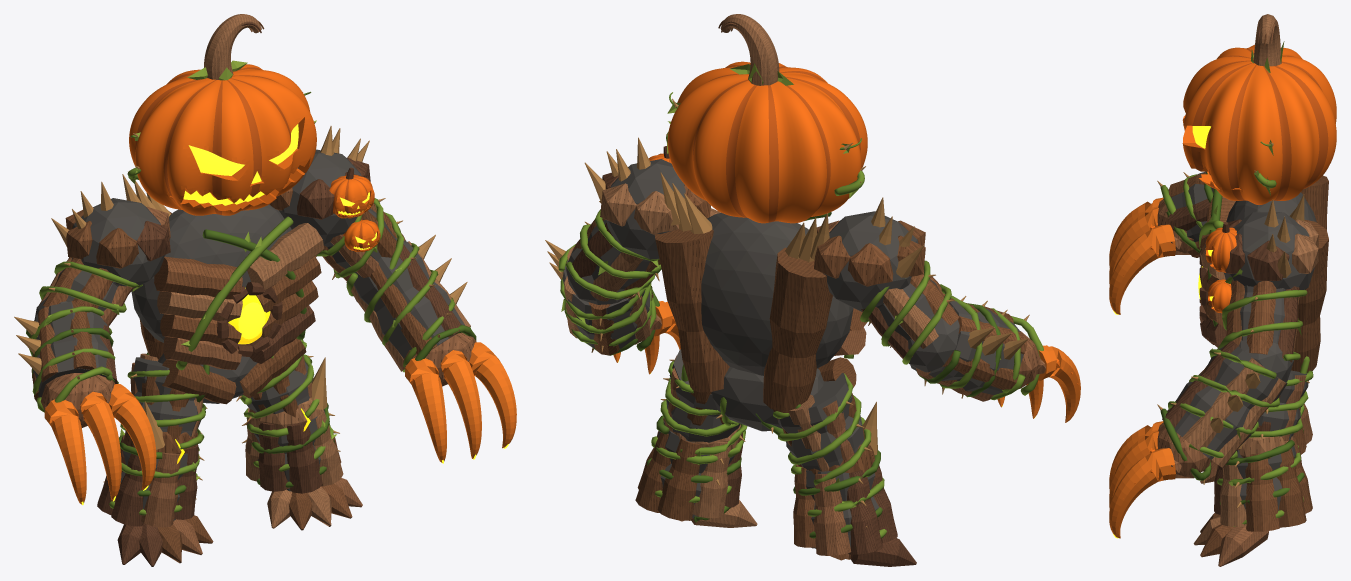
Rendered from PumpkinTitan.fbx.
3 renders of one model, left to right at view 1: azimuth 30°, elevation 25°; view 2: azimuth 150°, elevation 25°; view 3: azimuth 270°, elevation 25°, orthographic. The views are drawn at different scales.
Visible parts, largest first — view 1: Pumpkin_Head, Torso_Stone, Shoulder_Stone_-1, Forearm_Core_1, Rib_Bark_-1_3, Shoulder_Stone_1, Rib_Bark_1_3, Orange_Claw_-1_0, Orange_Claw_1_0, Orange_Claw_-1_1, Orange_Claw_-1_2, Orange_Claw_1_2 (+57 smaller); view 2: Pumpkin_Head, Torso_Stone, Back_Trunk_-1, Back_Trunk_1, Shoulder_Stone_-1, Shoulder_Stone_1, Thigh_Core_-1, Pelvis_Stone, Shin_Bark_1_2, Shin_Bark_-1_2, Curled_Wood_Stem, Shin_Bark_-1_3 (+44 smaller); view 3: Pumpkin_Head, Forearm_Core_1, Shoulder_Stone_1, Back_Trunk_1, Orange_Claw_-1_2, Orange_Claw_1_2, Shin_Bark_1_0, Forearm_Bark_1_0, Upper_Bark_1_0, Shin_Bark_1_1, Shin_Bark_1_6, Root_Toe_1_4 (+45 smaller).
Part boxes in pixels (bbox=[...]): Pumpkin_Head: bbox=[129, 64, 316, 215]; Torso_Stone: bbox=[131, 204, 291, 342]; Shoulder_Stone_-1: bbox=[72, 198, 165, 288]; Forearm_Core_1: bbox=[353, 241, 464, 358]; Rib_Bark_-1_3: bbox=[154, 256, 242, 299]; Shoulder_Stone_1: bbox=[279, 149, 361, 244]; Rib_Bark_1_3: bbox=[247, 223, 324, 290]; Orange_Claw_-1_0: bbox=[44, 399, 86, 504]; Orange_Claw_1_0: bbox=[405, 357, 446, 462]; Orange_Claw_-1_1: bbox=[80, 391, 121, 500]; Orange_Claw_-1_2: bbox=[108, 384, 156, 489]; Orange_Claw_1_2: bbox=[469, 342, 516, 448]; Pumpkin_Head: bbox=[667, 61, 867, 223]; Torso_Stone: bbox=[701, 212, 853, 375]; Back_Trunk_-1: bbox=[763, 247, 832, 412]; Back_Trunk_1: bbox=[654, 229, 729, 392]; Shoulder_Stone_-1: bbox=[822, 211, 918, 311]; Shoulder_Stone_1: bbox=[606, 159, 685, 259]; Thigh_Core_-1: bbox=[778, 373, 864, 471]; Pelvis_Stone: bbox=[711, 367, 823, 431]; Shin_Bark_1_2: bbox=[657, 438, 701, 520]; Shin_Bark_-1_2: bbox=[813, 473, 851, 555]; Curled_Wood_Stem: bbox=[720, 14, 779, 85]; Shin_Bark_-1_3: bbox=[846, 470, 882, 554]; Pumpkin_Head: bbox=[1182, 44, 1336, 204]; Forearm_Core_1: bbox=[1168, 346, 1287, 459]; Shoulder_Stone_1: bbox=[1223, 212, 1315, 289]; Back_Trunk_1: bbox=[1291, 219, 1328, 371]; Orange_Claw_-1_2: bbox=[1109, 224, 1175, 314]; Orange_Claw_1_2: bbox=[1109, 448, 1175, 538]; Shin_Bark_1_0: bbox=[1245, 453, 1279, 531]; Forearm_Bark_1_0: bbox=[1182, 357, 1265, 452]; Upper_Bark_1_0: bbox=[1247, 281, 1276, 354]; Shin_Bark_1_1: bbox=[1277, 448, 1306, 527]; Shin_Bark_1_6: bbox=[1220, 465, 1246, 526]; Root_Toe_1_4: bbox=[1218, 526, 1268, 566].
Size of the model in its own units: 2644 by 2806 by 1153.
15 materials, 5 textured.
